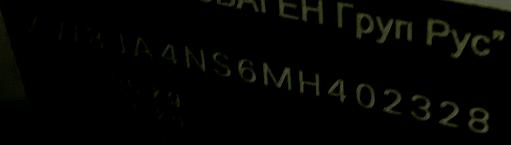letter: (258, 54, 296, 99), (44, 11, 82, 51), (349, 73, 380, 115), (435, 92, 463, 136), (295, 62, 325, 101), (18, 4, 48, 41), (465, 99, 494, 137), (378, 81, 405, 121), (232, 49, 261, 86), (408, 87, 435, 125), (323, 67, 348, 108), (182, 39, 208, 76), (209, 44, 235, 81), (105, 27, 130, 63), (130, 30, 157, 63), (81, 20, 107, 53), (158, 37, 179, 71)
